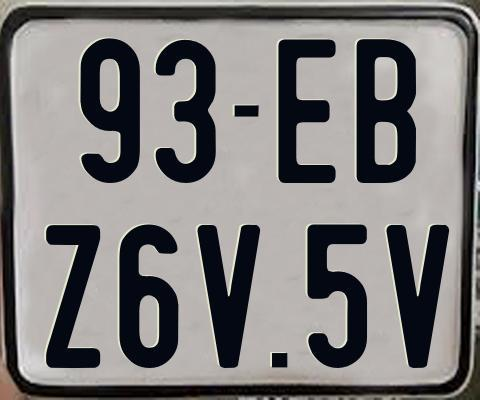3: (155, 37, 220, 180)
5: (304, 223, 369, 368)
6: (117, 224, 183, 370)
9: (77, 38, 143, 185)
B: (357, 38, 420, 186)
E: (278, 36, 336, 180)
V: (385, 224, 451, 370), (196, 223, 260, 371)
Z: (44, 225, 103, 372)
